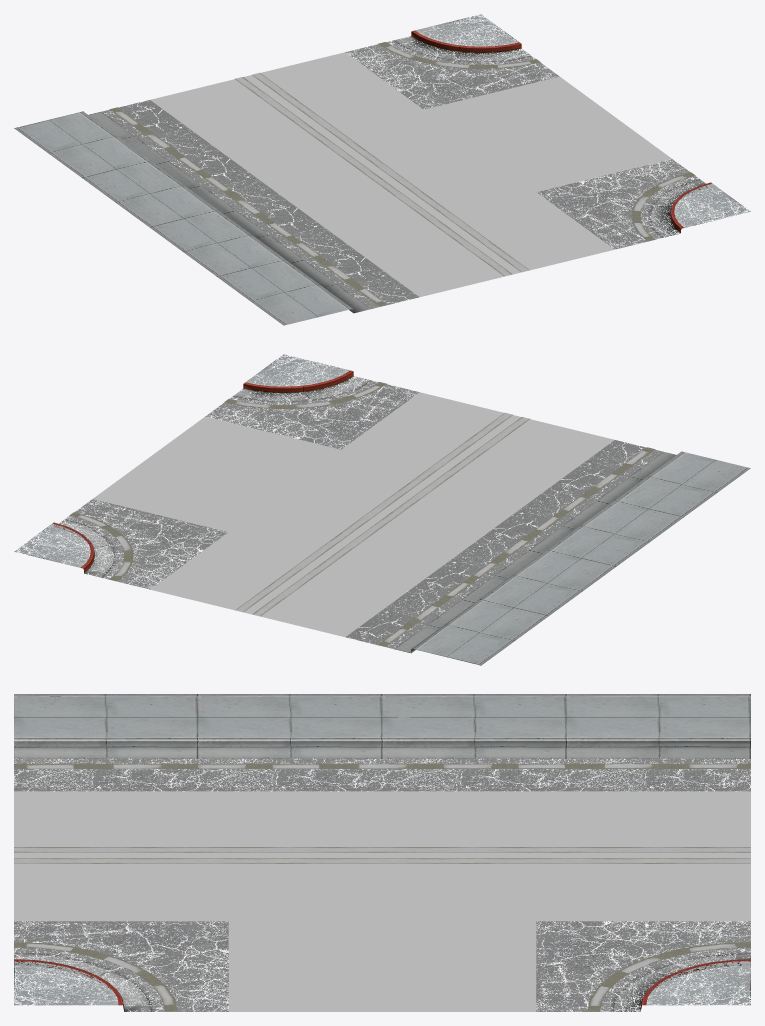
File: RoadTCross.obj
3 views of the same model, one above another, from view 1: azimuth 30°, elevation 25°; view 2: azimuth 150°, elevation 25°; view 3: azimuth 270°, elevation 25° (orthographic). The views are drawn at different scales.
Parts seen in each view (by area): view 1: Road_TCross; view 2: Road_TCross; view 3: Road_TCross.
Boxes of the visible parts, x1,y1,x2,y2 form: Road_TCross: [14, 14, 750, 325]; Road_TCross: [14, 354, 750, 665]; Road_TCross: [14, 694, 750, 1011].
Size of the model in its own units: 20 by 0.195 by 20.
